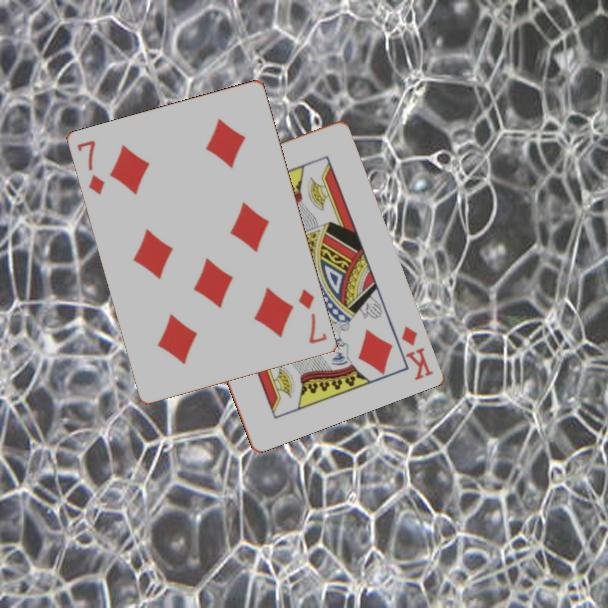d07: (295, 286, 330, 347), (74, 137, 108, 198)
d13: (398, 322, 436, 383)
